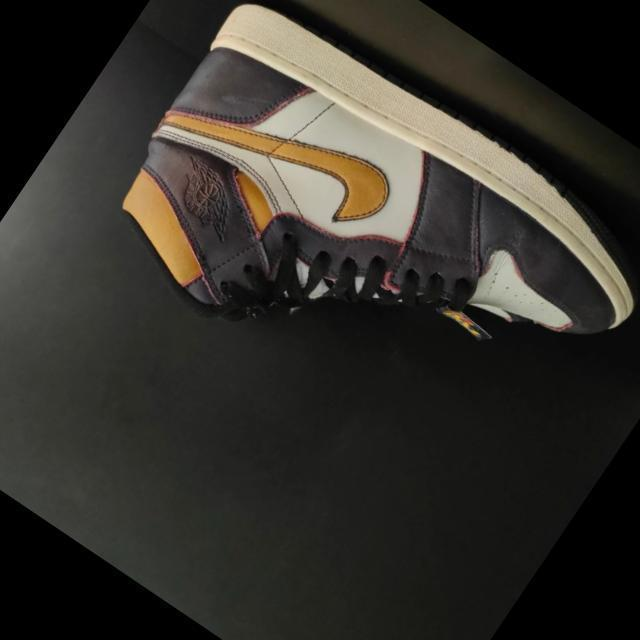nike fake jordan 1: (78, 0, 640, 521)
